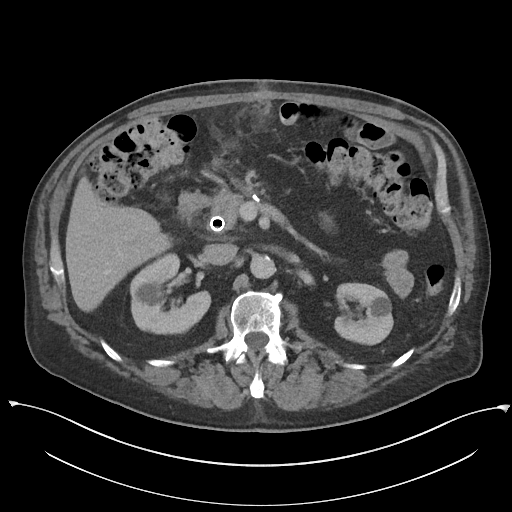Lesion: (131, 279, 170, 308)
